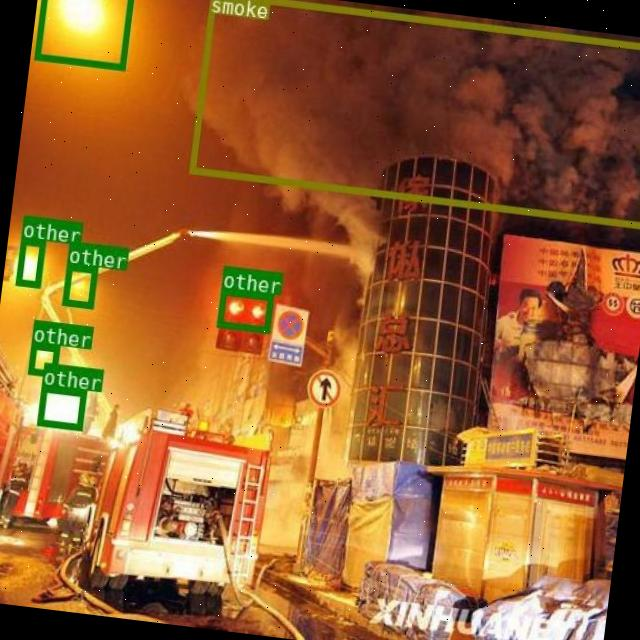smoke: (188, 0, 640, 227)
